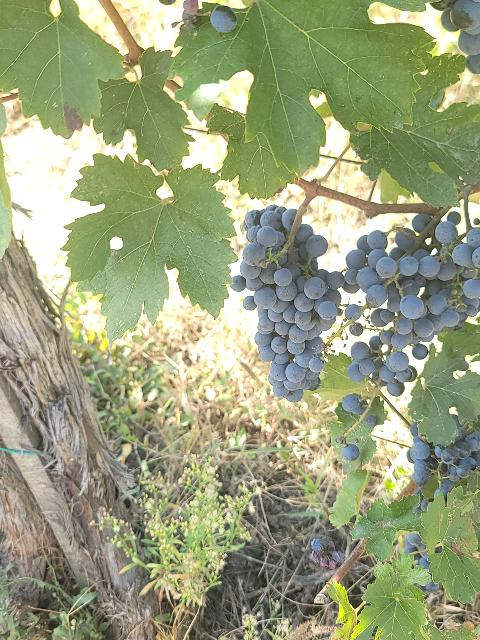grapes: (344, 210, 480, 394), (231, 205, 345, 401)
